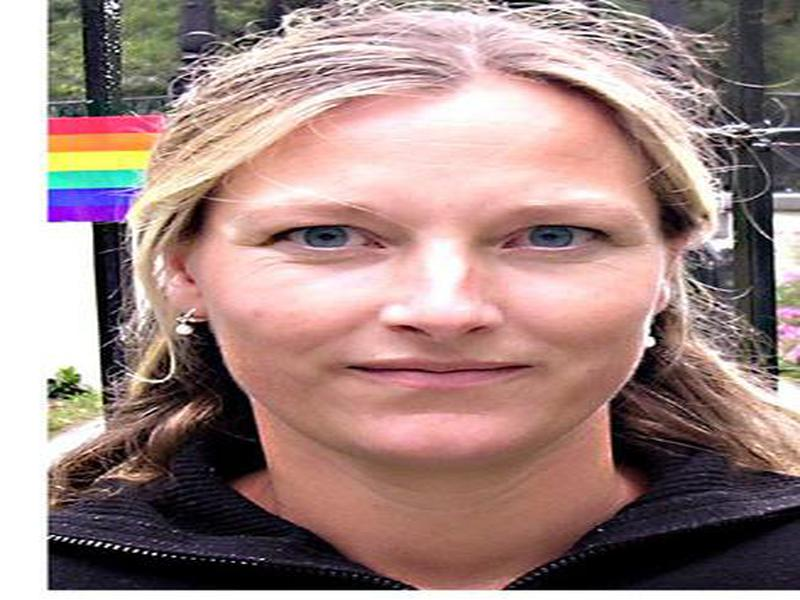without_mask: (202, 129, 656, 468)
